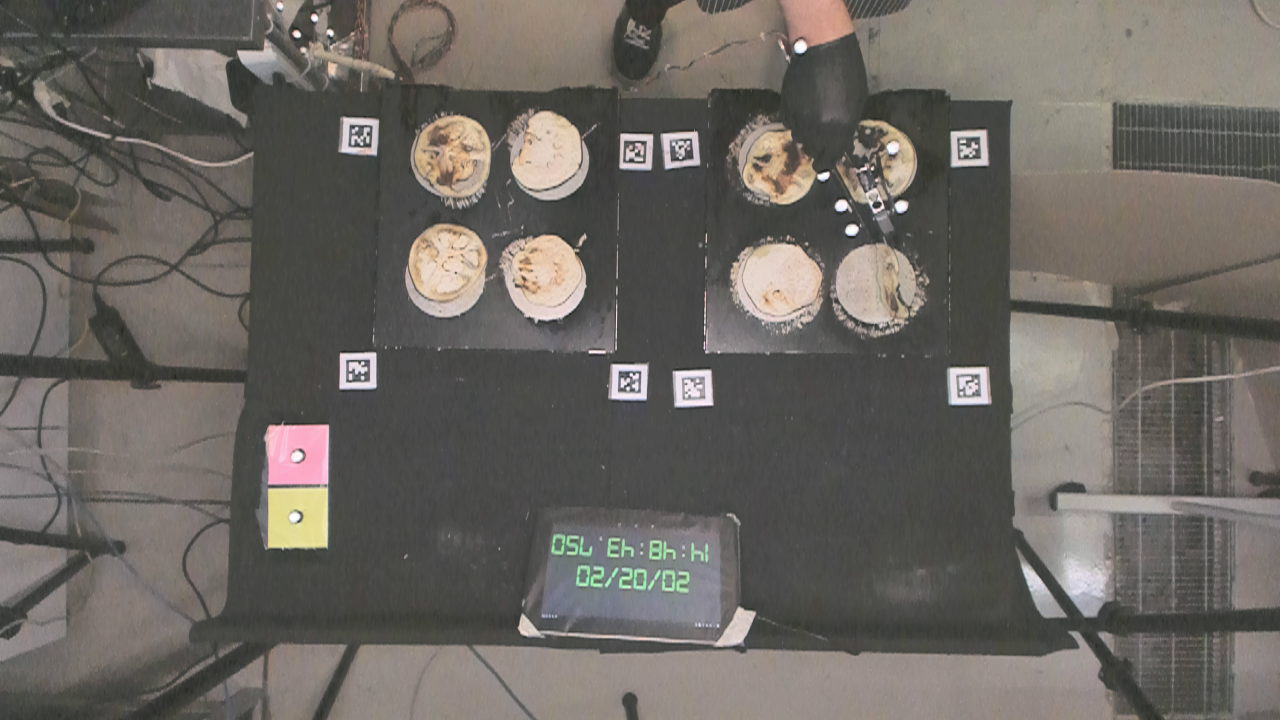eggplant: (406, 228, 488, 306), (413, 119, 492, 199), (743, 241, 823, 314), (511, 109, 581, 189), (511, 238, 582, 308), (743, 132, 811, 202), (875, 246, 911, 321)
marker: (267, 424, 330, 486)
